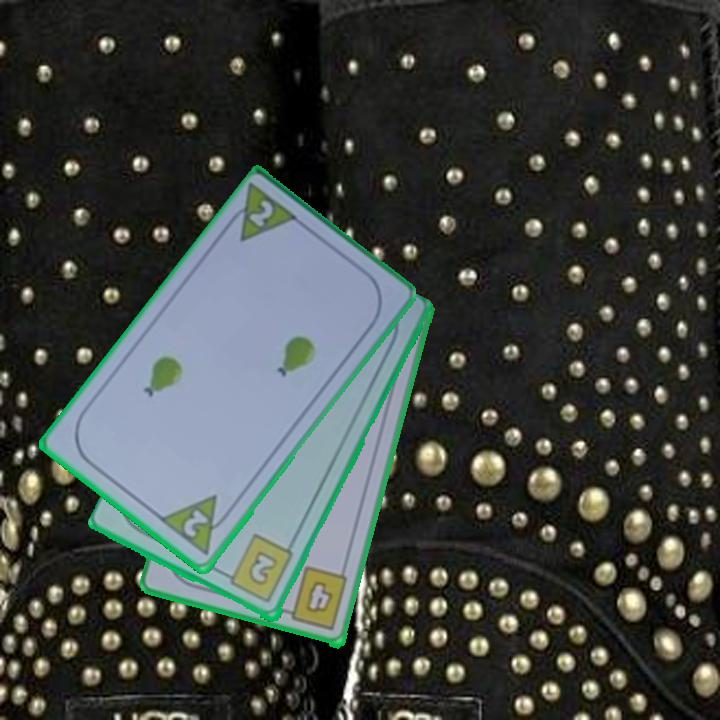2b: (219, 532, 296, 607)
2p: (156, 491, 236, 560), (244, 197, 277, 231)
4b: (278, 564, 351, 634)
